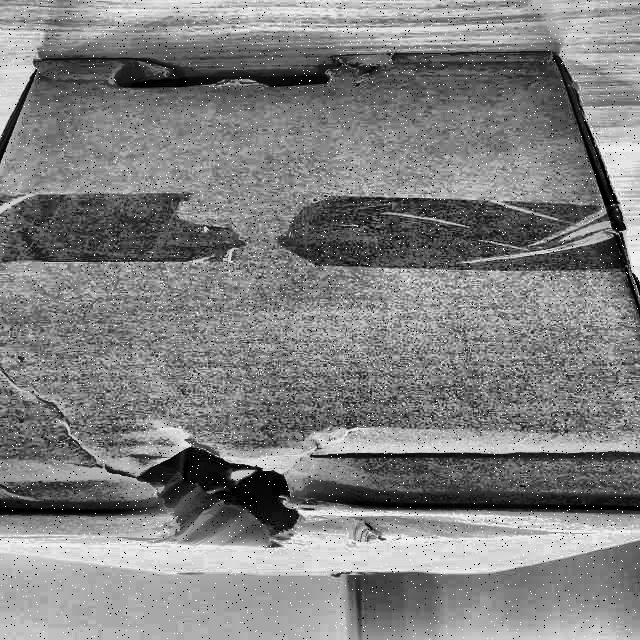box: (1, 35, 640, 598)
hole: (97, 435, 336, 553), (85, 56, 376, 102)
